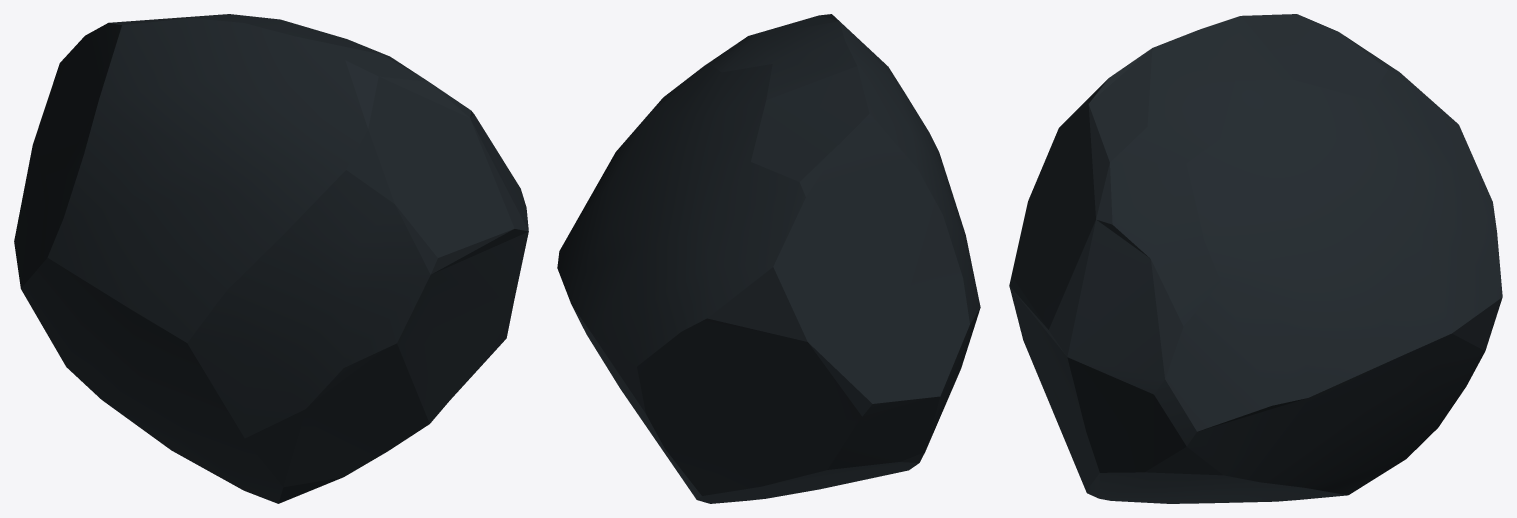
File: Asteroid_s_29.FBX
3 renders of one model, left to right at view 1: azimuth 30°, elevation 25°; view 2: azimuth 150°, elevation 25°; view 3: azimuth 270°, elevation 25°, orthographic. The views are drawn at different scales.
Visible parts, largest first — view 1: Asteroid_s_29; view 2: Asteroid_s_29; view 3: Asteroid_s_29.
Part boxes in pixels (bbox=[...]): Asteroid_s_29: bbox=[14, 14, 528, 503]; Asteroid_s_29: bbox=[557, 14, 980, 503]; Asteroid_s_29: bbox=[1009, 14, 1502, 503].
Size of the model in its own units: 144 by 145 by 140.
